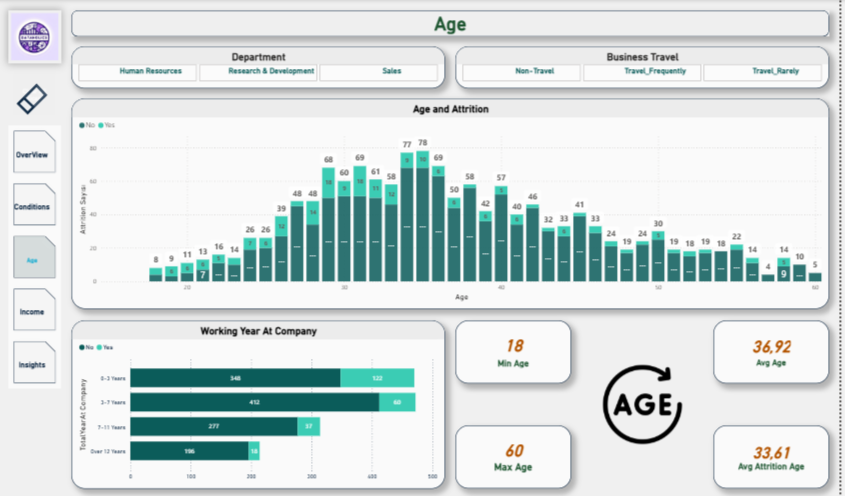

The page's visual inventory and layout, read from the dashboard file:
{"tool":"powerbi","page":{"name":"Age","canvas":[1600,950],"ordinal":2},"visuals":[{"type":"lineStackedColumnComboChart","title":" Age and Attrition","fields":{"Y":["CountNonNull(HR-Employee-Attrition.Attrition)"],"Category":["HR-Employee-Attrition.Age"],"Series":["HR-Employee-Attrition.Attrition"]},"box":[140,188.3,1440,400],"z":0},{"type":"shape","title":"Workforce Planning","box":[140,20,1440,50],"z":1000},{"type":"barChart","title":" Working Year At Company","fields":{"Category":["HR-Employee-Attrition.New TotalYearAt Company"],"Y":["CountNonNull(HR-Employee-Attrition.Attrition)"],"Series":["HR-Employee-Attrition.Attrition"]},"box":[140,610,710,320],"z":2000},{"type":"cardVisual","fields":{"Data":["AllMeasures.Avg Age"]},"box":[1360,610,220,120],"z":3000},{"type":"cardVisual","fields":{"Data":["AllMeasures.MIN Age"]},"box":[870,610,220,120],"z":4000},{"type":"cardVisual","fields":{"Data":["AllMeasures.Max Age"]},"box":[870,810,220,120],"z":5000},{"type":"cardVisual","fields":{"Data":["AllMeasures.Avg Attrition"]},"box":[1360,810,220,120],"z":6000},{"type":"image","box":[1146,690,160,160],"z":7000},{"type":"image","box":[20,20,100,100],"z":8000},{"type":"actionButton","box":[30,140,80,80],"z":9000},{"type":"advancedSlicerVisual","fields":{"Values":["HR-Employee-Attrition.BusinessTravel"]},"box":[870,90,710,80],"z":10000},{"type":"pageNavigator","box":[20,240,100,500],"z":11000},{"type":"advancedSlicerVisual","fields":{"Values":["HR-Employee-Attrition.Department"]},"box":[140,90,710,80],"z":12000}]}

Visuals, with their boxes on the page's 1600x950 design canvas (x1, y1, x2, y2). These are canvas units, not pixel positions in the 845x496 screenshot, which may show the page scaled, cropped or inside an application window:
" Age and Attrition" lineStackedColumnComboChart: [left=140, top=188, right=1580, bottom=588]
"Workforce Planning" shape: [left=140, top=20, right=1580, bottom=70]
" Working Year At Company" barChart: [left=140, top=610, right=850, bottom=930]
cardVisual - AllMeasures.Avg Age: [left=1360, top=610, right=1580, bottom=730]
cardVisual - AllMeasures.MIN Age: [left=870, top=610, right=1090, bottom=730]
cardVisual - AllMeasures.Max Age: [left=870, top=810, right=1090, bottom=930]
cardVisual - AllMeasures.Avg Attrition: [left=1360, top=810, right=1580, bottom=930]
image: [left=1146, top=690, right=1306, bottom=850]
image: [left=20, top=20, right=120, bottom=120]
actionButton: [left=30, top=140, right=110, bottom=220]
advancedSlicerVisual - HR-Employee-Attrition.BusinessTravel: [left=870, top=90, right=1580, bottom=170]
pageNavigator: [left=20, top=240, right=120, bottom=740]
advancedSlicerVisual - HR-Employee-Attrition.Department: [left=140, top=90, right=850, bottom=170]
